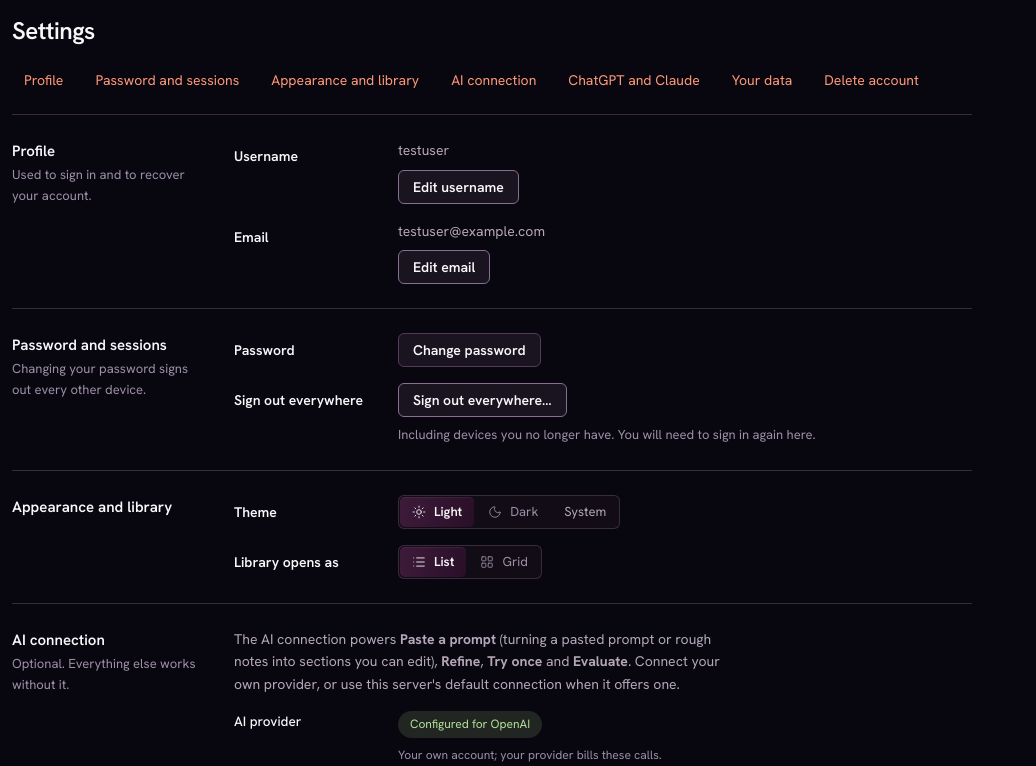
Test: SettingsPage › asks for the current password before changing the email
Click the button "Edit email" at {"x": 444, "y": 267}, box 398,250 -> 490,284
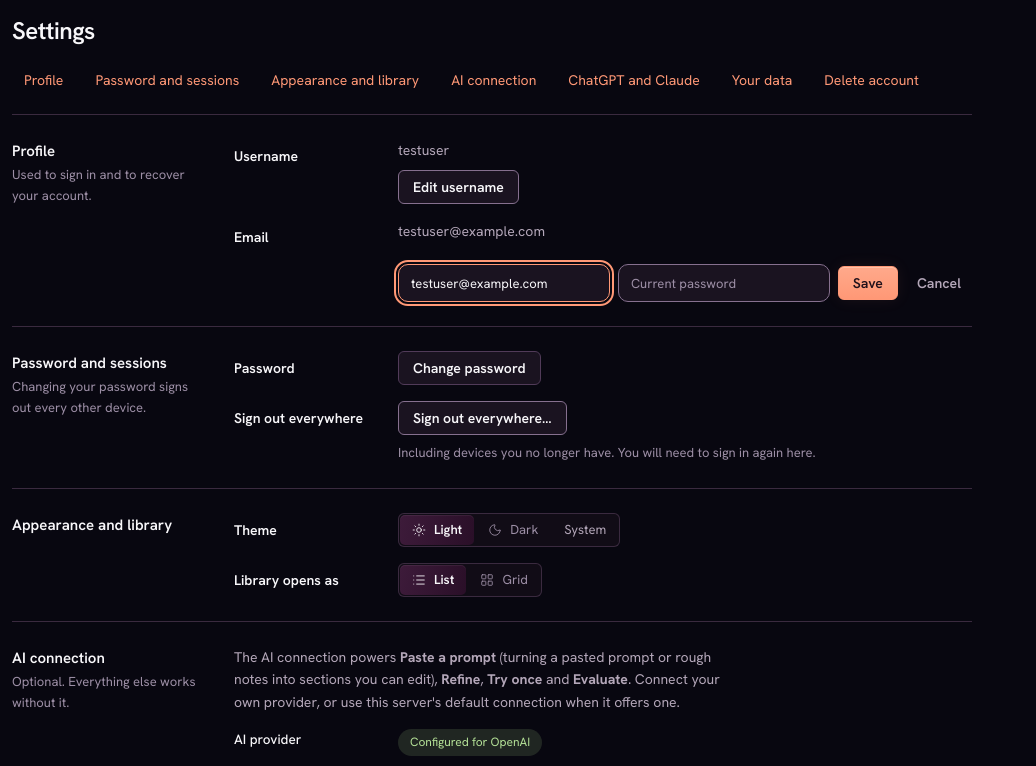
Replace the text in the field with placeholder "you@example.com" with "new@example.com" at {"x": 504, "y": 283}, box 398,264 -> 610,302
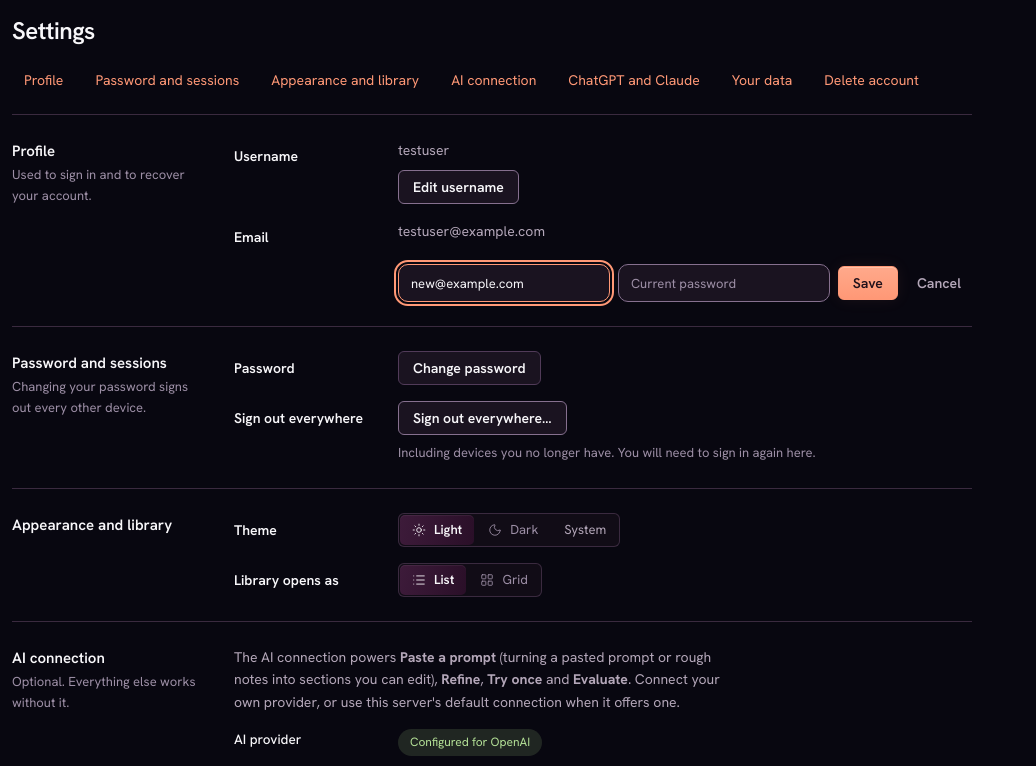
Click the button "Save" at {"x": 868, "y": 283}, box 838,266 -> 898,300
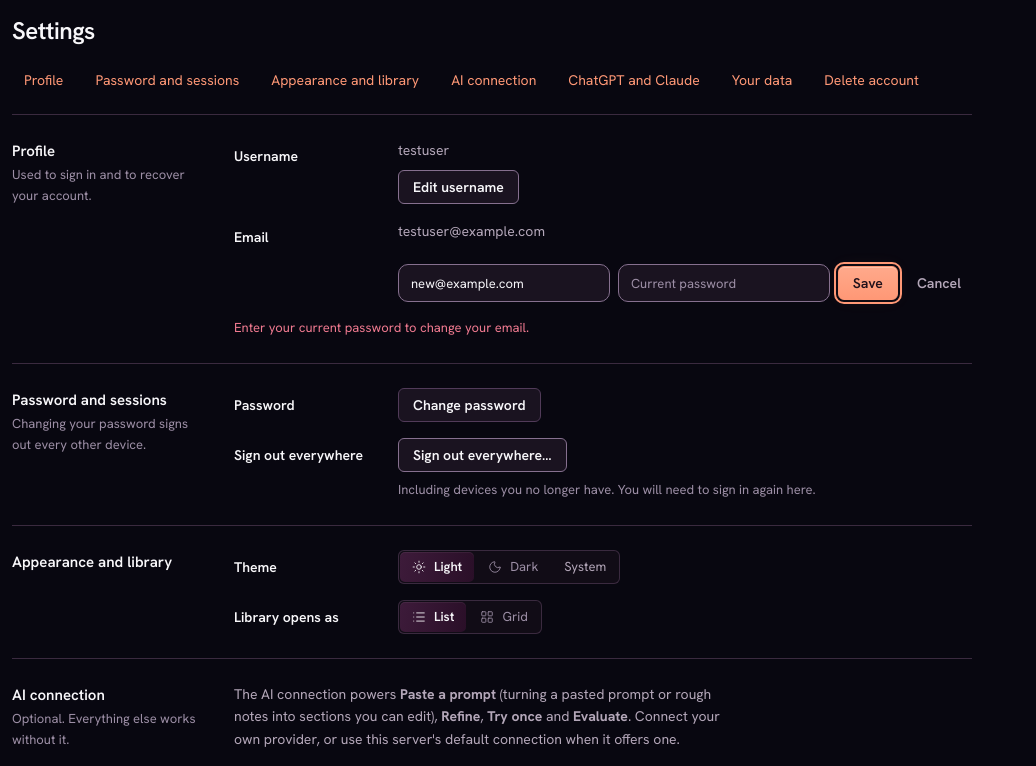
Expected: the message reads "Enter your current password to change your email.", 234,319 -> 529,336
